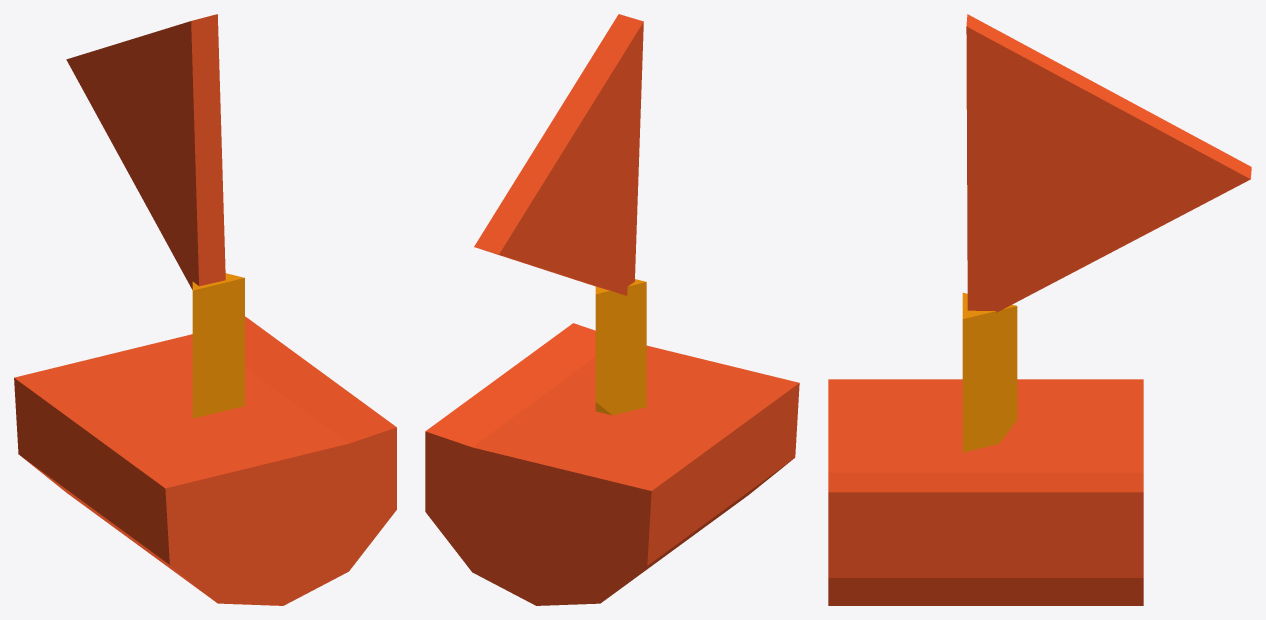
File: boat1.fbx
The picture shows the model from 3 angles, left to right: view 1: azimuth 30°, elevation 25°; view 2: azimuth 150°, elevation 25°; view 3: azimuth 270°, elevation 25°; orthographic projection. The views are drawn at different scales.
Visible parts, largest first — view 1: mesh_1812785844, group_410817031, mesh_419589608; view 2: mesh_1812785844, group_410817031, mesh_419589608; view 3: mesh_1812785844, group_410817031, mesh_419589608.
Boxes of the visible parts, x1=… form: mesh_1812785844: x1=14, y1=316, x2=396, y2=605; group_410817031: x1=66, y1=14, x2=225, y2=289; mesh_419589608: x1=192, y1=273, x2=244, y2=418; mesh_1812785844: x1=425, y1=323, x2=799, y2=605; group_410817031: x1=474, y1=14, x2=643, y2=295; mesh_419589608: x1=595, y1=279, x2=646, y2=415; mesh_1812785844: x1=828, y1=379, x2=1143, y2=605; group_410817031: x1=966, y1=14, x2=1251, y2=312; mesh_419589608: x1=962, y1=292, x2=1017, y2=452.
Size of the model in its own units: 4.42 by 9.9 by 6.72.
